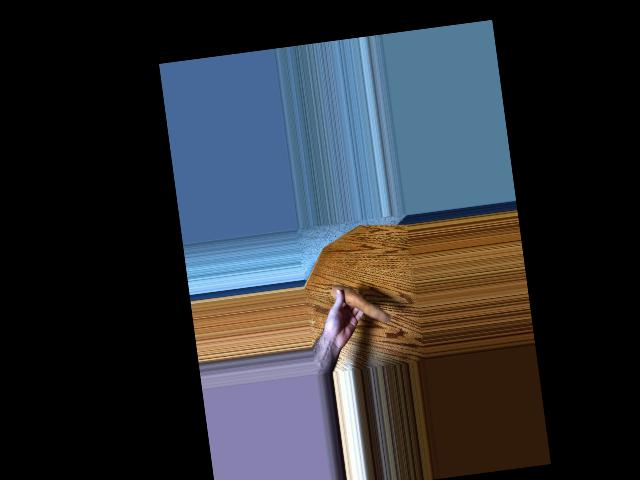sweet_potato: (331, 281, 391, 330)
